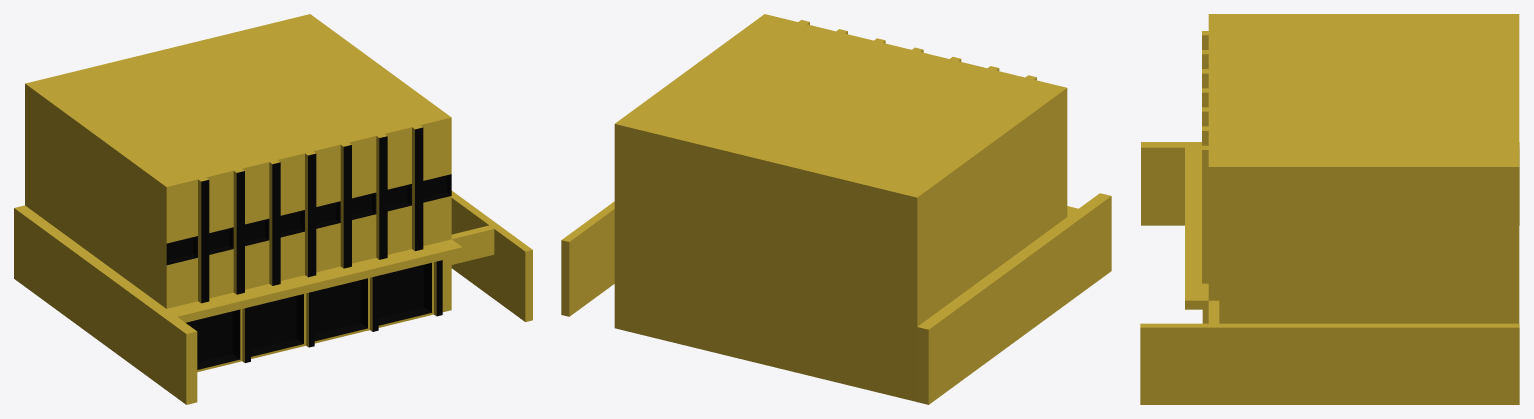
Rendered from loja_34.fbx.
The picture shows the model from 3 angles, left to right: view 1: azimuth 30°, elevation 25°; view 2: azimuth 150°, elevation 25°; view 3: azimuth 270°, elevation 25°; orthographic projection. The views are drawn at different scales.
Parts seen in each view (by area): view 1: Cube.001; view 2: Cube.001; view 3: Cube.001.
Boxes of the visible parts, left/top/right/bottom form: Cube.001: left=14, top=14, right=532, bottom=404; Cube.001: left=561, top=14, right=1111, bottom=404; Cube.001: left=1140, top=14, right=1519, bottom=404.
Bounding box in the file's own units: 1861 × 990 × 1607.
